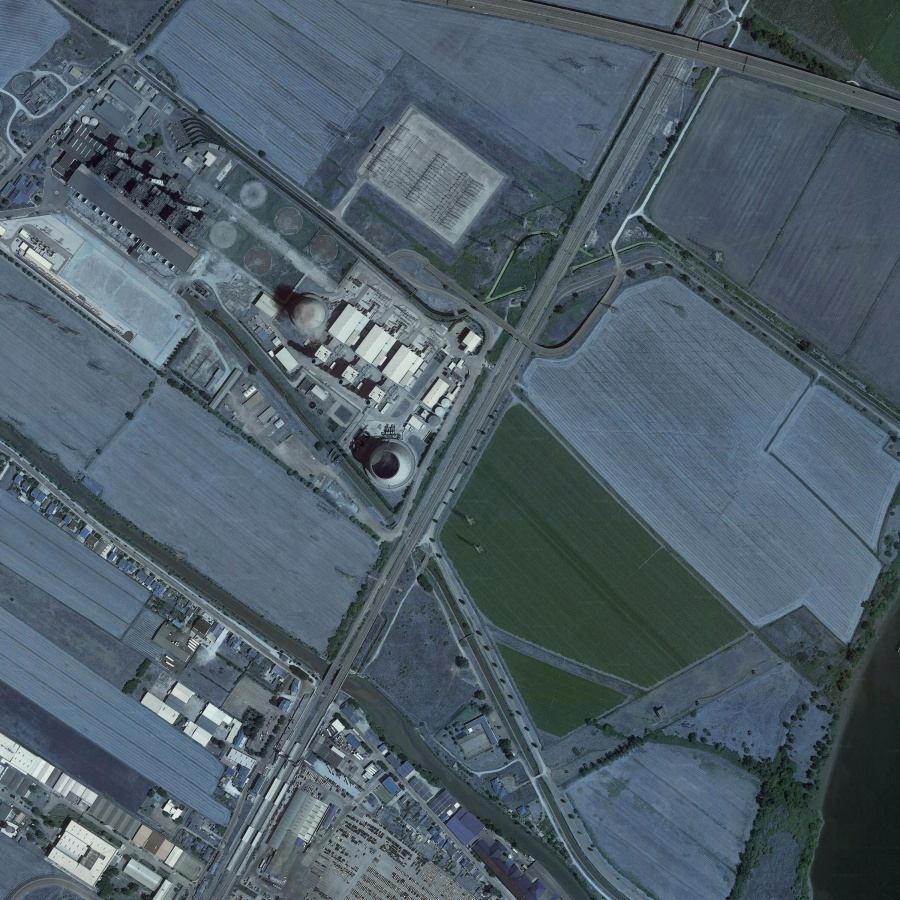PowerPlant: (25, 99, 479, 506)
